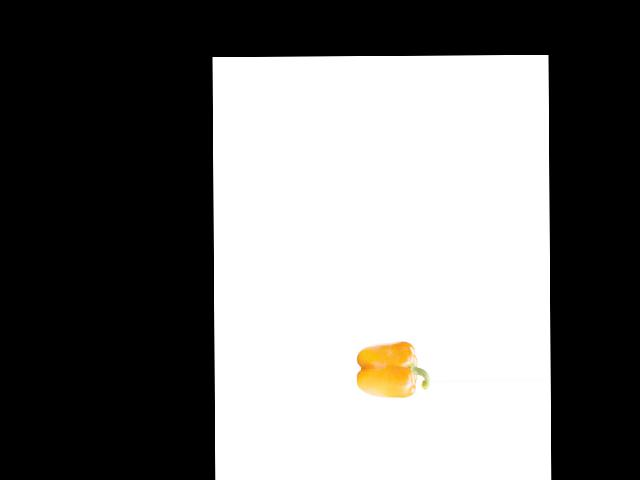bell_pepper: (355, 335, 430, 404)
